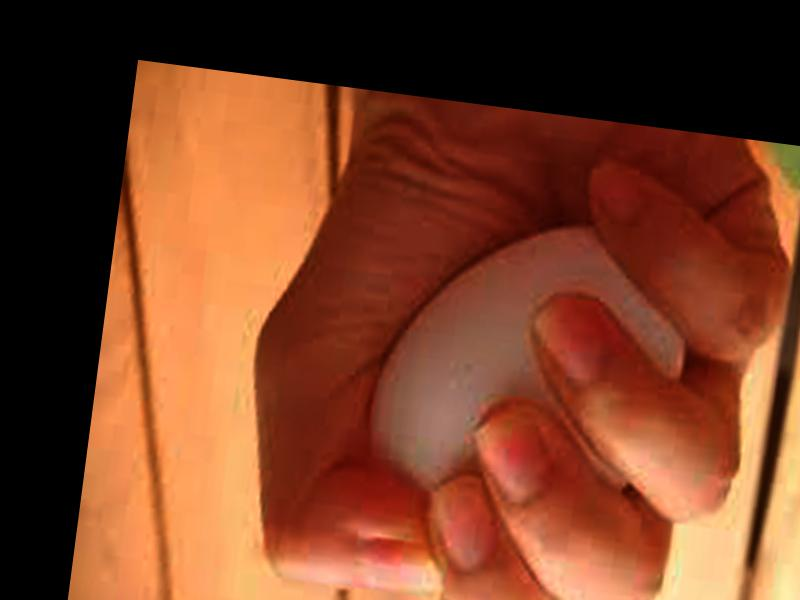Eggs: (359, 202, 701, 521)
